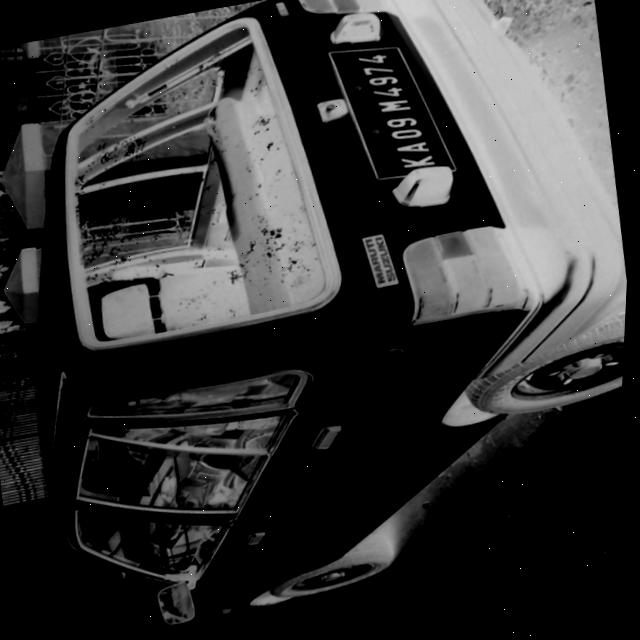Non_registered: (376, 174, 378, 178)
